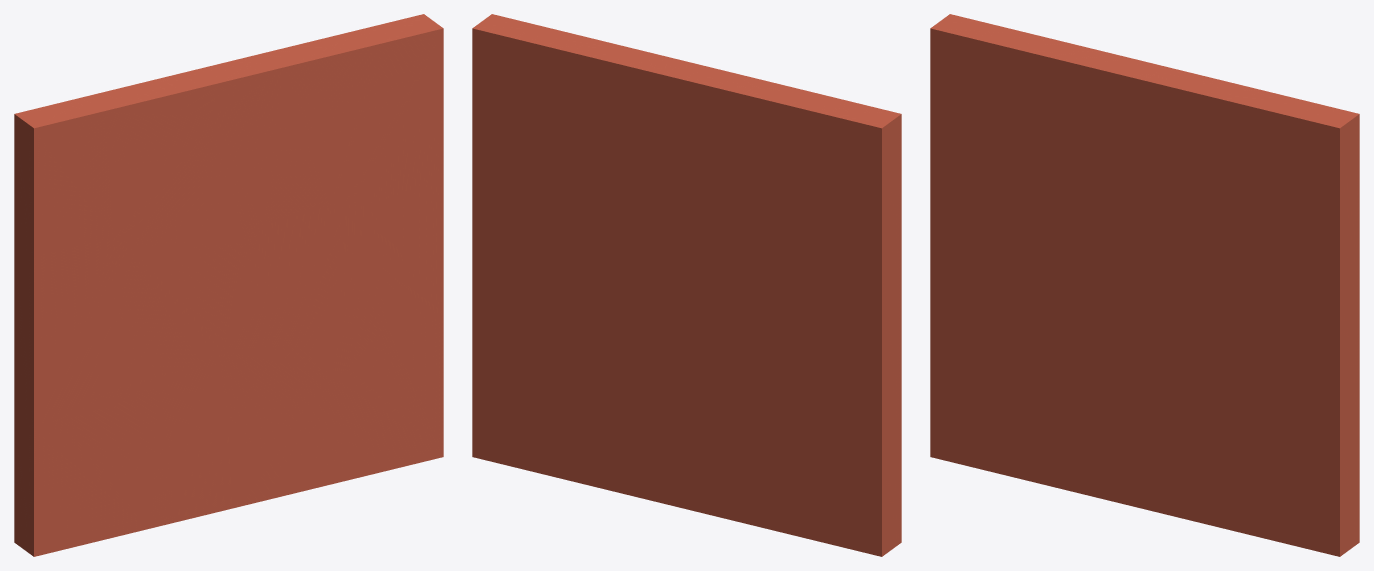
The model's file is Kit_Brick_Wall_Fractured.glb.
3 renders of one model, left to right at view 1: azimuth 30°, elevation 25°; view 2: azimuth 150°, elevation 25°; view 3: azimuth 330°, elevation 25°, orthographic.
Visible parts, largest first — view 1: Kit_Brick_Wall_frag_02, Kit_Brick_Wall_frag_18, Kit_Brick_Wall_frag_03, Kit_Brick_Wall_frag_12, Kit_Brick_Wall_frag_01, Kit_Brick_Wall_frag_06, Kit_Brick_Wall_frag_10, Kit_Brick_Wall_frag_13, Kit_Brick_Wall_frag_11, Kit_Brick_Wall_frag_15, Kit_Brick_Wall_frag_09, Kit_Brick_Wall_frag_07 (+6 smaller); view 2: Kit_Brick_Wall_frag_02, Kit_Brick_Wall_frag_18, Kit_Brick_Wall_frag_03, Kit_Brick_Wall_frag_01, Kit_Brick_Wall_frag_06, Kit_Brick_Wall_frag_15, Kit_Brick_Wall_frag_12, Kit_Brick_Wall_frag_10, Kit_Brick_Wall_frag_13, Kit_Brick_Wall_frag_11, Kit_Brick_Wall_frag_14, Kit_Brick_Wall_frag_09 (+6 smaller); view 3: Kit_Brick_Wall_frag_18, Kit_Brick_Wall_frag_02, Kit_Brick_Wall_frag_12, Kit_Brick_Wall_frag_06, Kit_Brick_Wall_frag_10, Kit_Brick_Wall_frag_17, Kit_Brick_Wall_frag_13, Kit_Brick_Wall_frag_03, Kit_Brick_Wall_frag_11, Kit_Brick_Wall_frag_15, Kit_Brick_Wall_frag_16, Kit_Brick_Wall_frag_09 (+6 smaller).
Part boxes in pixels (x1,y1,x2,y2): Kit_Brick_Wall_frag_02: [14, 237, 130, 428]; Kit_Brick_Wall_frag_18: [344, 14, 443, 205]; Kit_Brick_Wall_frag_03: [14, 97, 113, 255]; Kit_Brick_Wall_frag_12: [200, 54, 329, 224]; Kit_Brick_Wall_frag_01: [14, 414, 149, 556]; Kit_Brick_Wall_frag_06: [84, 69, 219, 239]; Kit_Brick_Wall_frag_10: [218, 347, 330, 506]; Kit_Brick_Wall_frag_13: [269, 369, 443, 499]; Kit_Brick_Wall_frag_11: [225, 202, 342, 349]; Kit_Brick_Wall_frag_15: [260, 28, 379, 203]; Kit_Brick_Wall_frag_09: [125, 117, 263, 246]; Kit_Brick_Wall_frag_07: [160, 355, 238, 522]; Kit_Brick_Wall_frag_02: [787, 237, 901, 428]; Kit_Brick_Wall_frag_18: [472, 14, 567, 204]; Kit_Brick_Wall_frag_03: [805, 96, 901, 254]; Kit_Brick_Wall_frag_01: [766, 414, 901, 556]; Kit_Brick_Wall_frag_06: [696, 69, 829, 239]; Kit_Brick_Wall_frag_15: [531, 29, 650, 204]; Kit_Brick_Wall_frag_12: [591, 53, 715, 223]; Kit_Brick_Wall_frag_10: [586, 348, 694, 506]; Kit_Brick_Wall_frag_13: [472, 371, 646, 499]; Kit_Brick_Wall_frag_11: [575, 203, 689, 350]; Kit_Brick_Wall_frag_14: [524, 202, 618, 377]; Kit_Brick_Wall_frag_09: [649, 112, 792, 246]; Kit_Brick_Wall_frag_18: [1240, 99, 1359, 277]; Kit_Brick_Wall_frag_02: [930, 156, 1027, 333]; Kit_Brick_Wall_frag_12: [1108, 59, 1225, 246]; Kit_Brick_Wall_frag_06: [1002, 31, 1134, 183]; Kit_Brick_Wall_frag_10: [1115, 343, 1226, 514]; Kit_Brick_Wall_frag_17: [1265, 264, 1359, 415]; Kit_Brick_Wall_frag_13: [1165, 420, 1359, 556]; Kit_Brick_Wall_frag_03: [930, 14, 1018, 175]; Kit_Brick_Wall_frag_11: [1121, 237, 1239, 376]; Kit_Brick_Wall_frag_15: [1180, 74, 1300, 254]; Kit_Brick_Wall_frag_16: [1246, 397, 1359, 548]; Kit_Brick_Wall_frag_09: [1021, 103, 1159, 244].
Size of what is drawn, in the model's own units: 3 by 3 by 0.25.
Materials: 2 (2 with a texture image).
